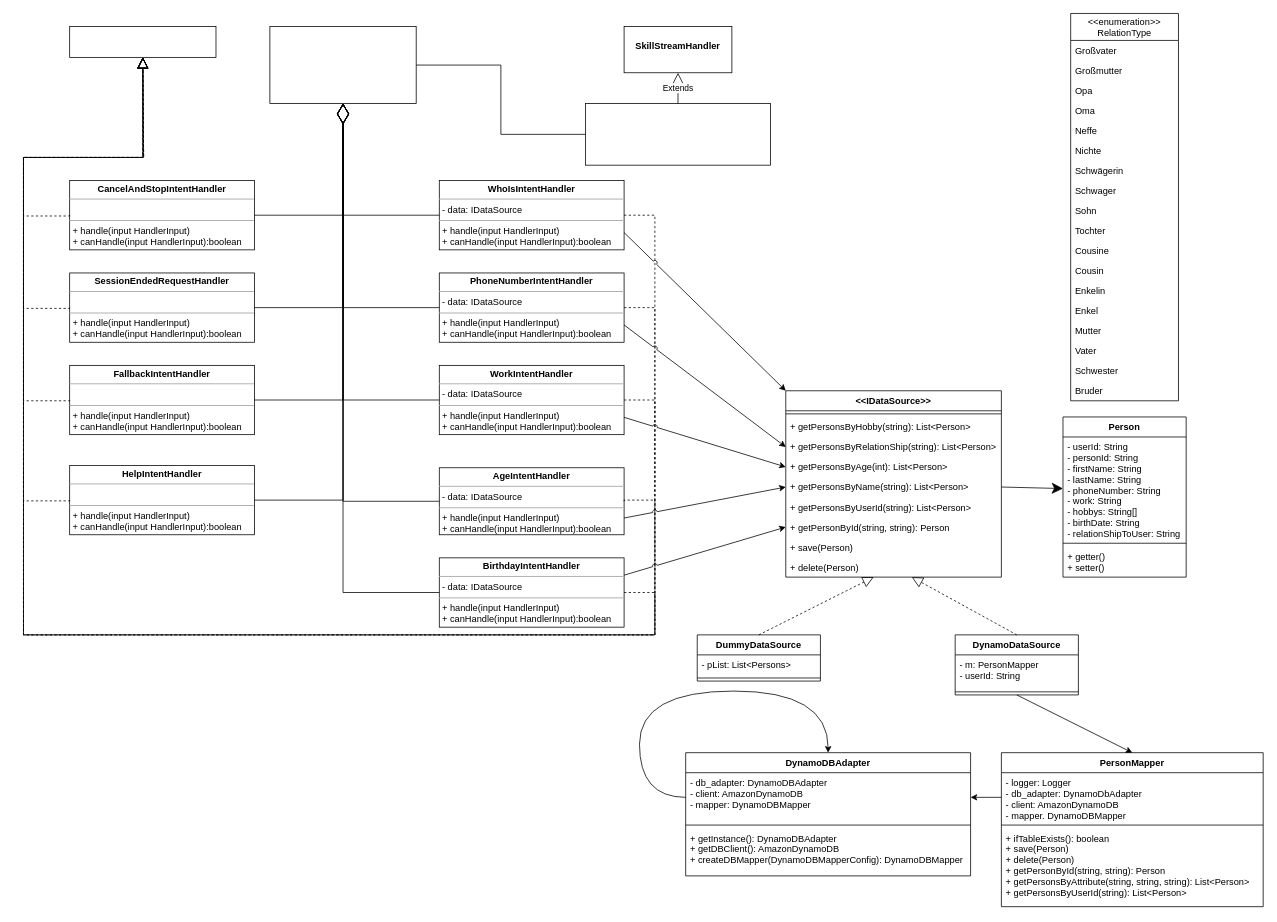
The diagram is 1277 pixels wide and 922 high, and some of its shapes have lost their labels. The shapes that lost their labels are listed below. From the top down, each one's centre as x and y in pixels, then its label:
At point (142, 41): "<<Interface>> RequestHandler".
At point (342, 65): "Skill + build()".
At point (677, 134): "FamilyTreeStreamHandler - getSkill():Skill".
